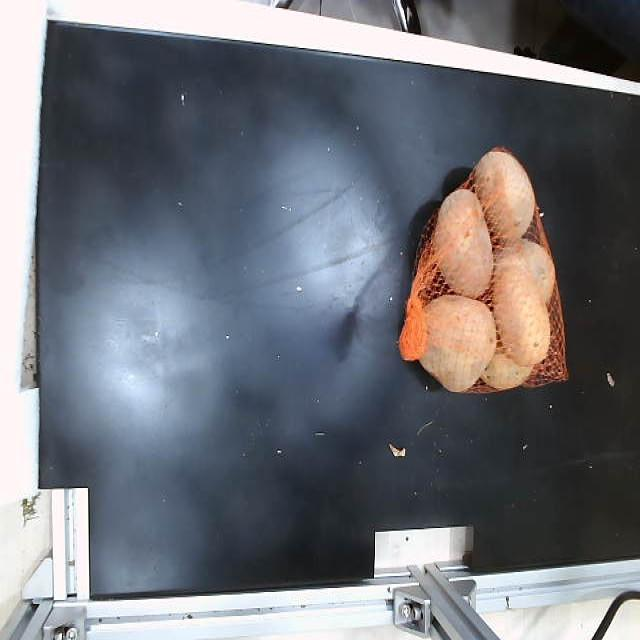potato: (399, 295, 494, 392), (495, 245, 550, 367), (432, 188, 492, 298), (474, 148, 534, 239), (502, 238, 555, 302), (481, 352, 531, 389)
